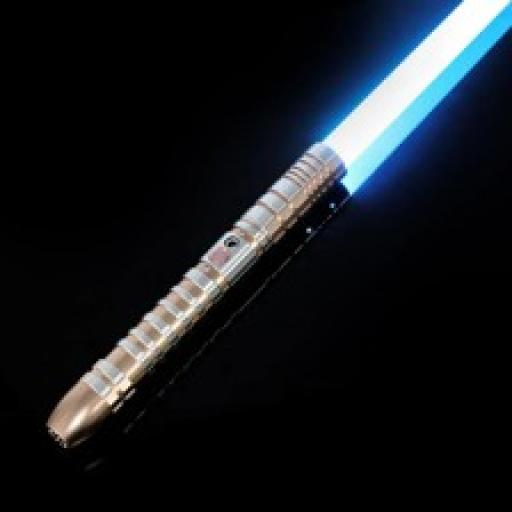lightsaber: (16, 2, 510, 468)
